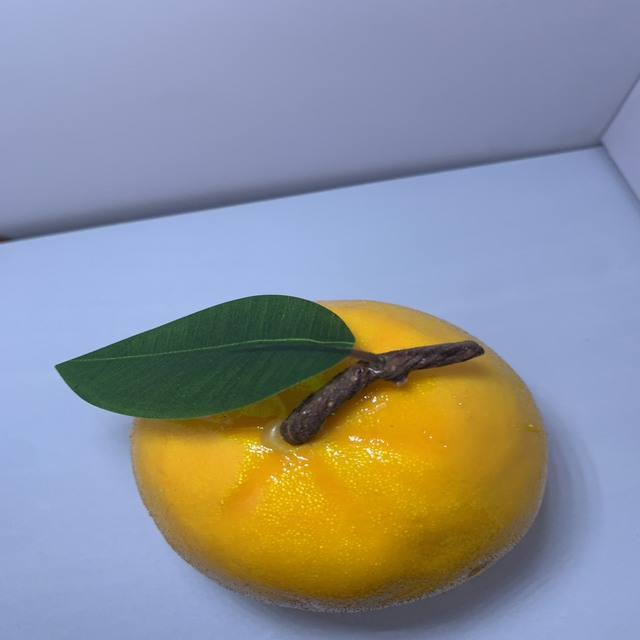Cam vang: (117, 288, 556, 621)
